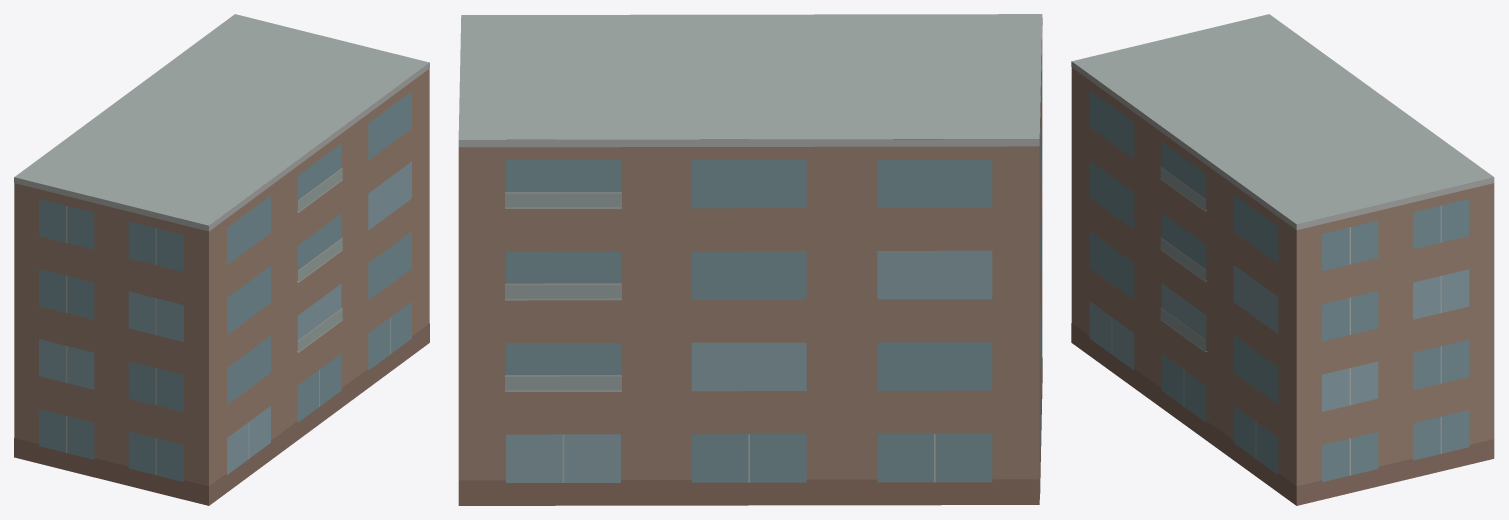
File: survey-upis-32716724.glb
3 renders of one model, left to right at view 1: azimuth 30°, elevation 25°; view 2: azimuth 150°, elevation 25°; view 3: azimuth 270°, elevation 25°, orthographic. The views are drawn at different scales.
Visible parts, largest first — view 1: survey-upis-32716724.tmp; view 2: survey-upis-32716724.tmp; view 3: survey-upis-32716724.tmp.
Part boxes in pixels (x1=…): survey-upis-32716724.tmp: x1=14, y1=14, x2=429, y2=505; survey-upis-32716724.tmp: x1=458, y1=14, x2=1042, y2=505; survey-upis-32716724.tmp: x1=1071, y1=14, x2=1494, y2=505.
Bounding box in the file's own units: 18.93 × 11.8 × 16.07.
